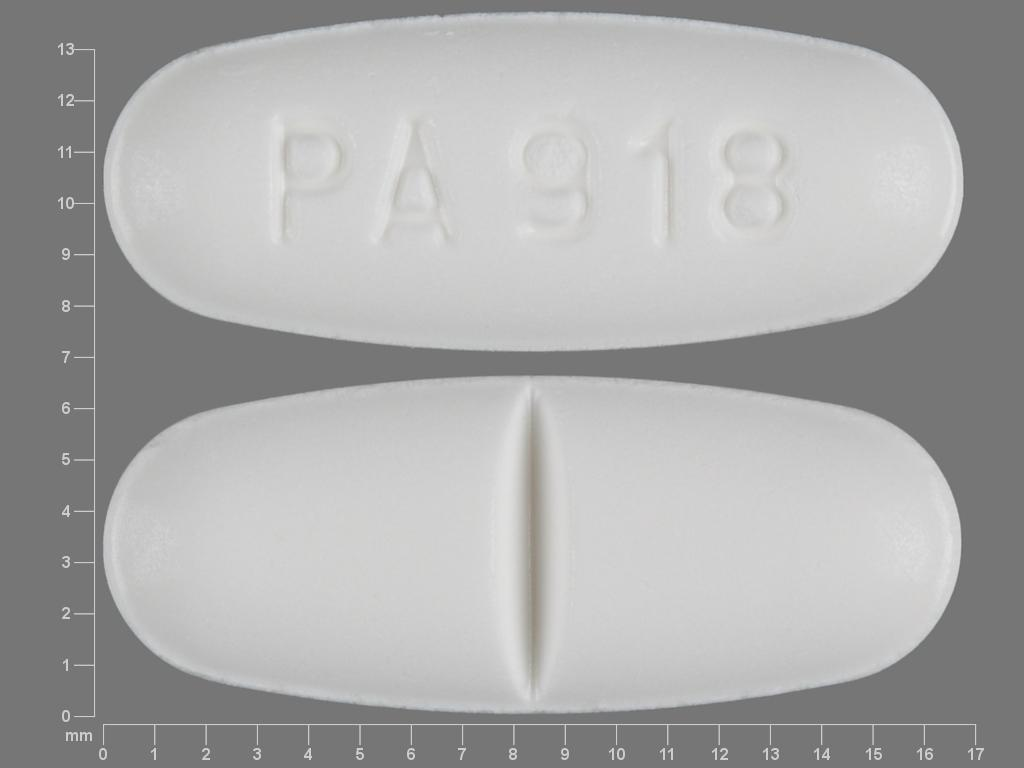Pill: (97, 361, 973, 723), (97, 1, 971, 363)
